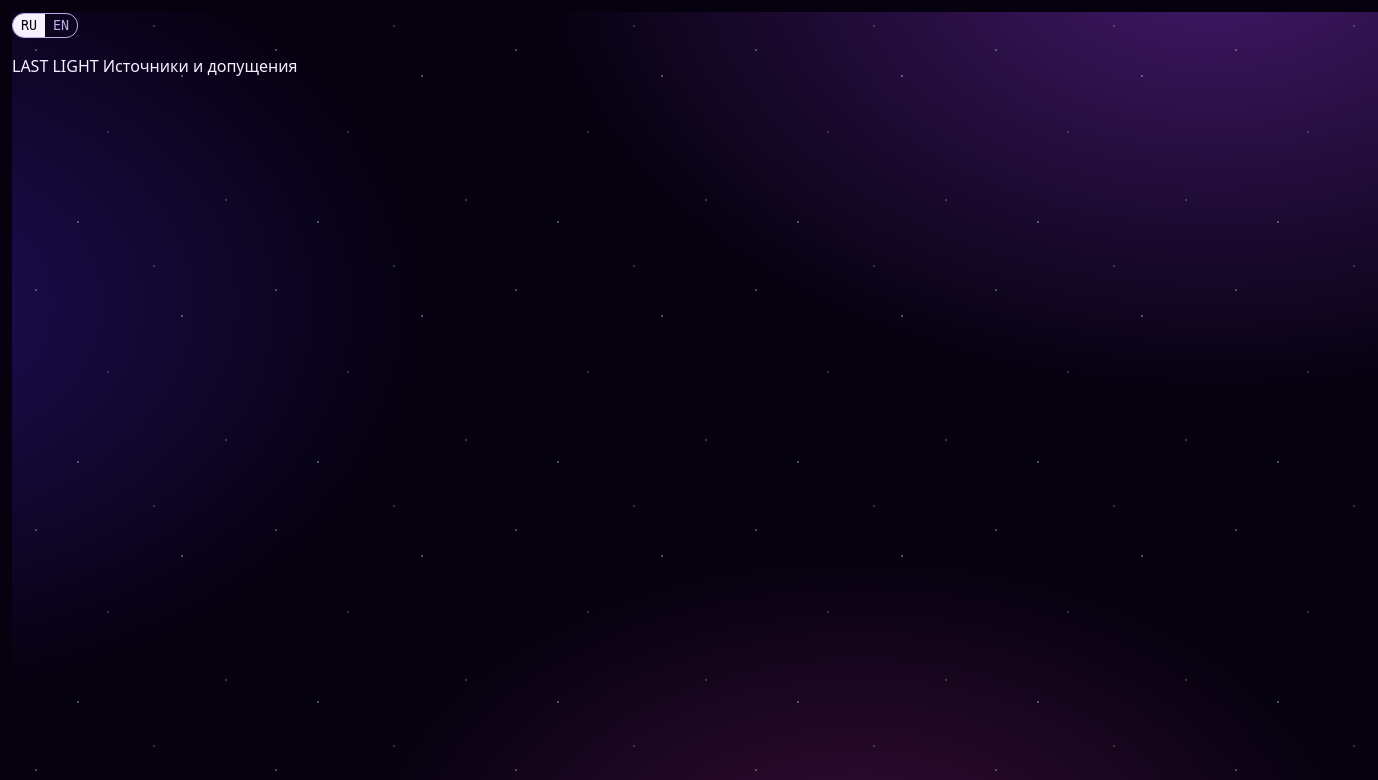
Test: LangSwitch › switches the language, stores it and re-renders subscribers
Check: the text "LAST LIGHT Источники и допущения" is shown, box [12,55,298,77]
Click the button with aria-label "English".
click(61, 26)  # box [45,14,77,37]
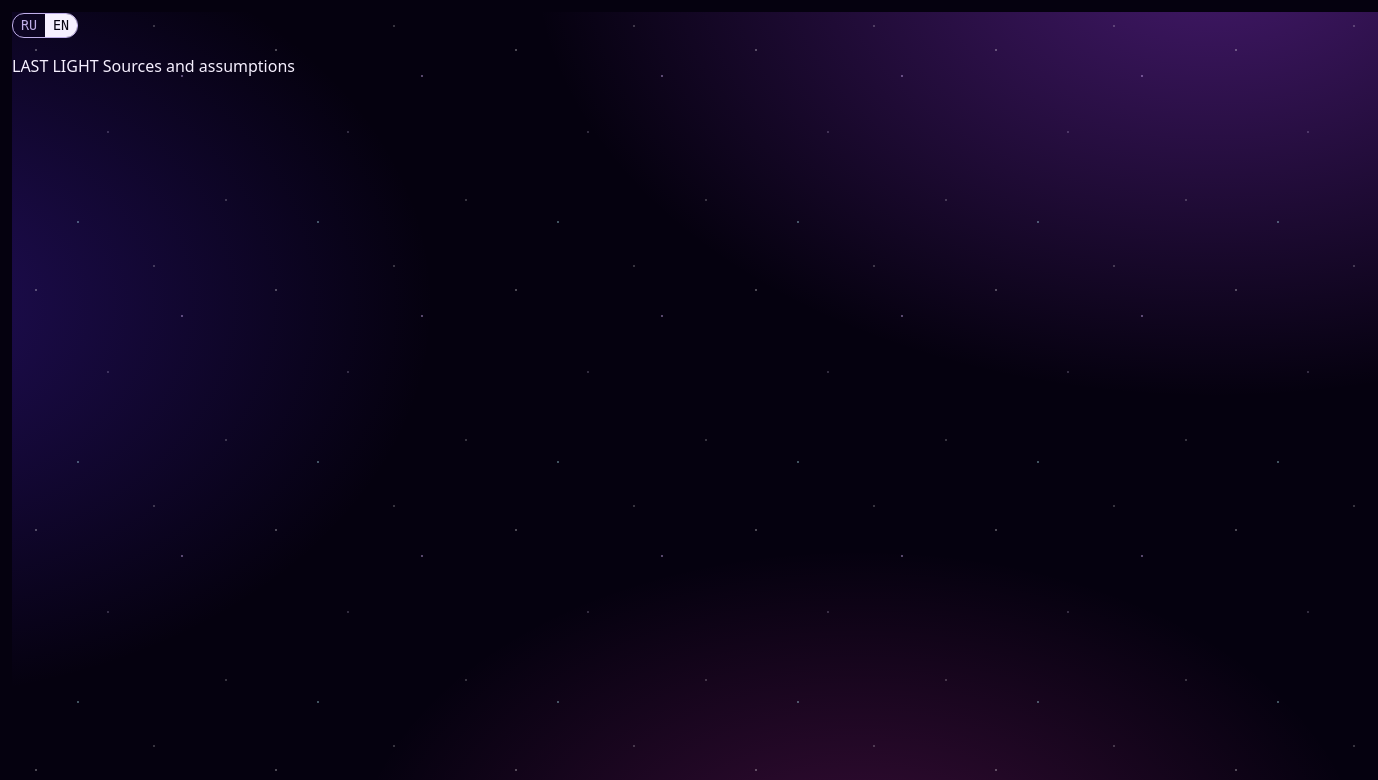
Check: the text "LAST LIGHT Sources and assumptions" is shown, box [12,55,295,77]
